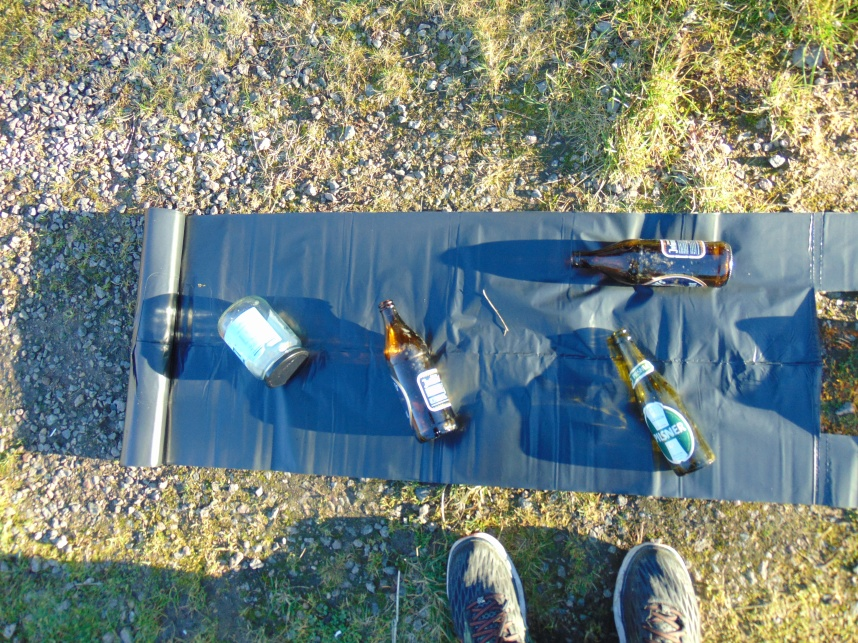glass_bottle: (611, 326, 716, 479), (378, 299, 459, 446), (216, 296, 310, 386), (567, 239, 734, 286)
